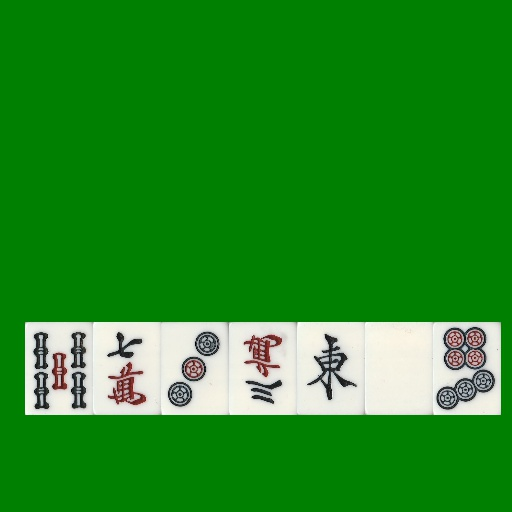3m: (229, 322, 297, 415)
3p: (161, 322, 229, 415)
5s: (25, 322, 93, 415)
7m: (93, 322, 161, 415)
7p: (433, 322, 501, 415)
east: (297, 322, 365, 415)
white: (365, 322, 433, 415)
